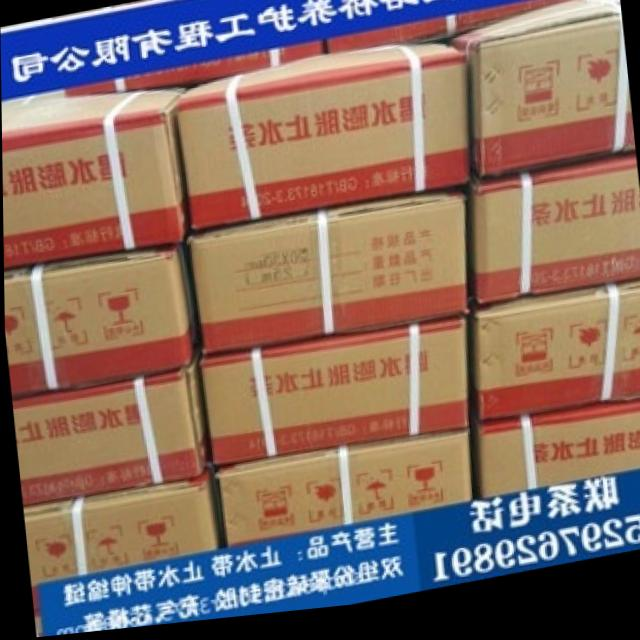box: (173, 45, 475, 234), (187, 195, 469, 358), (201, 322, 469, 473), (444, 0, 634, 186), (1, 90, 192, 271), (3, 238, 201, 403), (210, 438, 477, 551), (14, 356, 209, 507), (470, 164, 640, 312), (472, 291, 640, 431), (24, 468, 219, 584), (470, 411, 640, 503), (321, 0, 568, 62), (60, 46, 330, 99)
